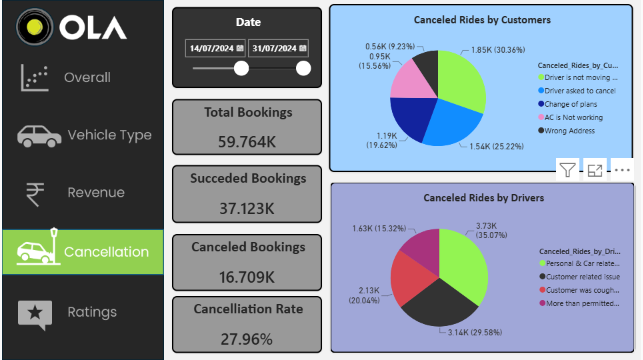

What the dashboard file says about the page in this screenshot:
{"tool":"powerbi","page":{"name":"Cancelliation","canvas":[1920,1080],"ordinal":3},"visuals":[{"type":"actionButton","box":[324.5,520.1,319.7,88.3],"z":0},{"type":"actionButton","box":[324.5,400.8,319.7,85.9],"z":1000},{"type":"actionButton","box":[324.5,286.3,319.7,90.7],"z":2000},{"type":"actionButton","box":[326.9,758.7,317.3,90.7],"z":3000},{"type":"pieChart","title":"Canceled Rides by Customers","fields":{"Category":["July.Canceled_Rides_by_Customer"],"Y":["CountNonNull(July.Canceled_Rides_by_Customer)"]},"box":[974,184,608,336],"z":3001},{"type":"pieChart","title":"Canceled Rides by Drivers","fields":{"Category":["July.Canceled_Rides_by_Driver"],"Y":["CountNonNull(July.Canceled_Rides_by_Driver)"]},"box":[976,540,610,342],"z":3002},{"type":"slicer","title":"Date","fields":{"Values":["July.Date"]},"box":[660,190,300,162],"z":3003},{"type":"cardVisual","title":"Total Bookings","fields":{"Data":["CountNonNull(July.Booking_ID)"]},"box":[660,374,300,112],"z":3004},{"type":"cardVisual","title":"Succeded Bookings ","fields":{"Data":["CountNonNull(July.Booking_ID)"]},"box":[660,506,300,116],"z":3005},{"type":"cardVisual","title":"Canceled Bookings ","fields":{"Data":["CountNonNull(July.Booking_ID)"]},"box":[660,644,300,114],"z":3006},{"type":"cardVisual","title":"Cancelliation Rate","fields":{"Data":["July.CanceledPercentage"]},"box":[660,768,300,114],"z":3007}]}

Visuals, with their boxes on the page's 1920x1080 design canvas (x1, y1, x2, y2). These are canvas units, not pixel positions in the 643x360 screenshot, which may show the page scaled, cropped or inside an application window:
actionButton: [x1=324, y1=520, x2=644, y2=608]
actionButton: [x1=324, y1=401, x2=644, y2=487]
actionButton: [x1=324, y1=286, x2=644, y2=377]
actionButton: [x1=327, y1=759, x2=644, y2=849]
"Canceled Rides by Customers" pieChart: [x1=974, y1=184, x2=1582, y2=520]
"Canceled Rides by Drivers" pieChart: [x1=976, y1=540, x2=1586, y2=882]
"Date" slicer: [x1=660, y1=190, x2=960, y2=352]
"Total Bookings" cardVisual: [x1=660, y1=374, x2=960, y2=486]
"Succeded Bookings " cardVisual: [x1=660, y1=506, x2=960, y2=622]
"Canceled Bookings " cardVisual: [x1=660, y1=644, x2=960, y2=758]
"Cancelliation Rate" cardVisual: [x1=660, y1=768, x2=960, y2=882]
